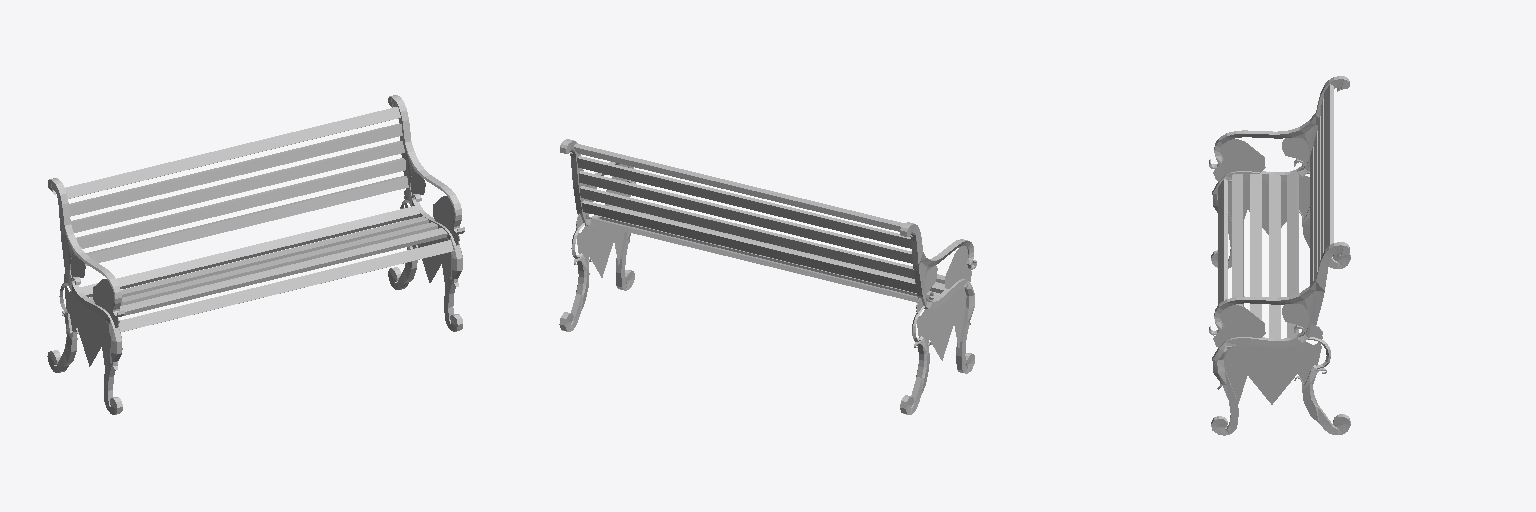
Rendered from Bench.obj.
3 views of the same model, side by side, from view 1: azimuth 30°, elevation 25°; view 2: azimuth 150°, elevation 25°; view 3: azimuth 270°, elevation 25° (orthographic).
Parts seen in each view (by area): view 1: bench; view 2: bench; view 3: bench.
Boxes of the visible parts, x1,y1,x2,y2 form: bench: [47, 95, 464, 414]; bench: [559, 139, 976, 414]; bench: [1209, 76, 1350, 435].
Bounding box in the file's own units: 3.83 × 1.98 × 1.34.